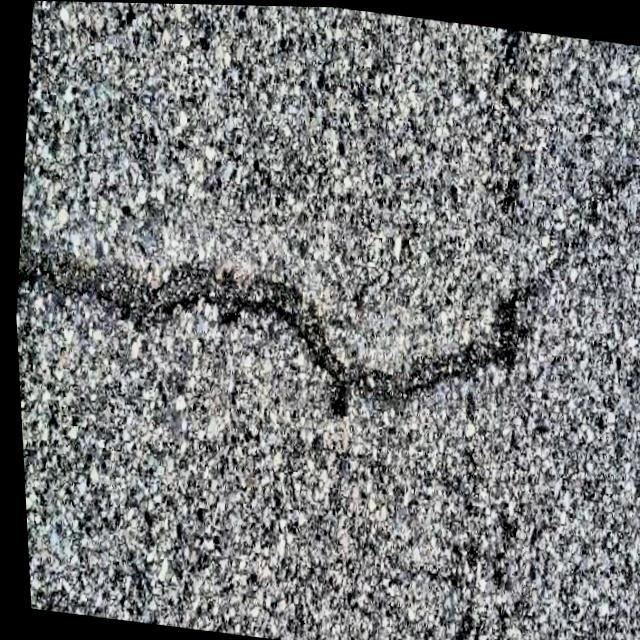Clogged Drains: (12, 248, 522, 393)
